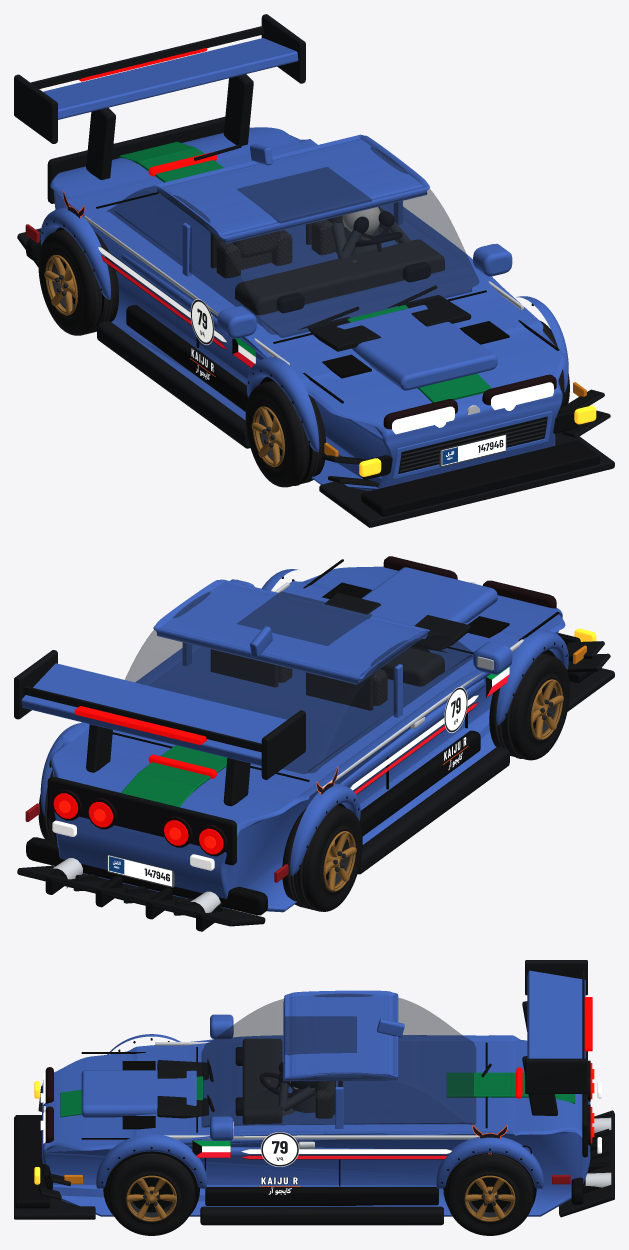
The model's file is kaiju-r.glb.
The picture shows the model from 3 angles, top to bottom: view 1: azimuth 30°, elevation 25°; view 2: azimuth 150°, elevation 25°; view 3: azimuth 270°, elevation 25°; orthographic projection. The views are drawn at different scales.
Visible parts, largest first — view 1: object 1, object 2, object 3, wing, object 124, object 137, object 127, face, object 39, object 35, object 71, object 180 (+29 smaller); view 2: object 1, object 2, wing, object 3, tail-lamps, object 124, object 71, object 39, object 180, object 35, object 113, object 182 (+28 smaller); view 3: object 1, object 2, object 3, wing, object 181, object 124, object 119, object 55, object 87, object 137, object 35, object 127 (+26 smaller).
Part boxes in pixels (x1,y1,x2,y2): object 1: (50, 127, 565, 490); object 2: (107, 146, 479, 337); object 3: (153, 134, 429, 243); wing: (14, 14, 305, 143); object 124: (337, 305, 497, 390); object 137: (235, 239, 444, 315); object 127: (361, 440, 600, 516); face: (361, 408, 578, 479); object 39: (245, 381, 325, 487); object 35: (237, 167, 371, 223); object 71: (38, 229, 118, 335); object 180: (97, 321, 250, 448); object 1: (50, 566, 565, 912); object 2: (125, 591, 473, 773); wing: (14, 650, 305, 779); object 3: (153, 579, 429, 684); tail-lamps: (47, 776, 236, 865); object 124: (361, 567, 497, 638); object 71: (282, 805, 362, 911); object 39: (489, 654, 569, 760); object 180: (357, 747, 509, 874); object 35: (237, 591, 371, 645); object 113: (359, 730, 480, 836); object 182: (17, 865, 265, 926); object 1: (42, 1035, 590, 1216); object 2: (201, 993, 476, 1127); object 3: (283, 990, 398, 1081); wing: (525, 960, 592, 1093); object 181: (200, 1206, 443, 1225); object 124: (81, 1070, 196, 1117); object 119: (205, 1187, 438, 1205); object 55: (108, 1153, 195, 1235); object 87: (446, 1153, 533, 1235); object 137: (242, 1038, 282, 1124); object 35: (284, 1016, 356, 1055); object 127: (15, 1115, 50, 1208).
Bounding box in the file's own units: 2.05 × 1.46 × 4.6.
47 materials, 10 textured.
